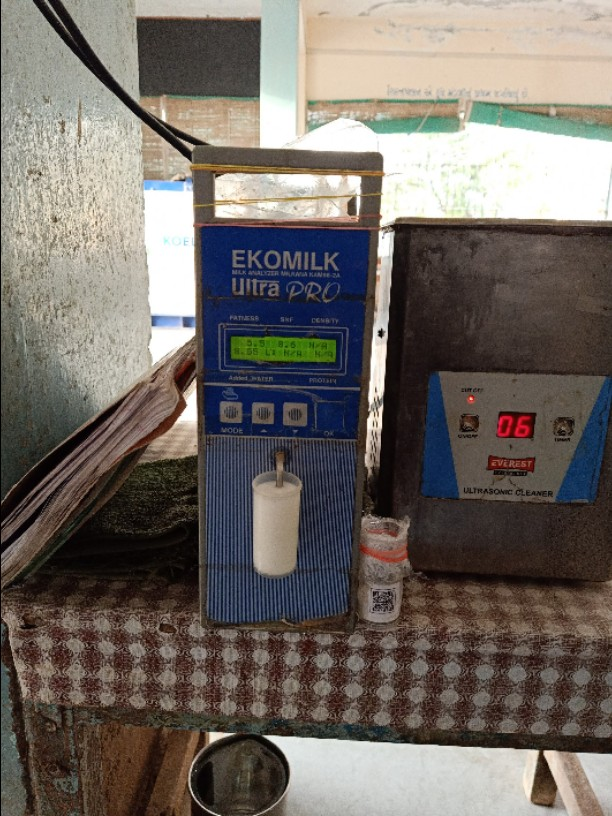lcd: (224, 331, 342, 373)
qr: (364, 583, 403, 622)
